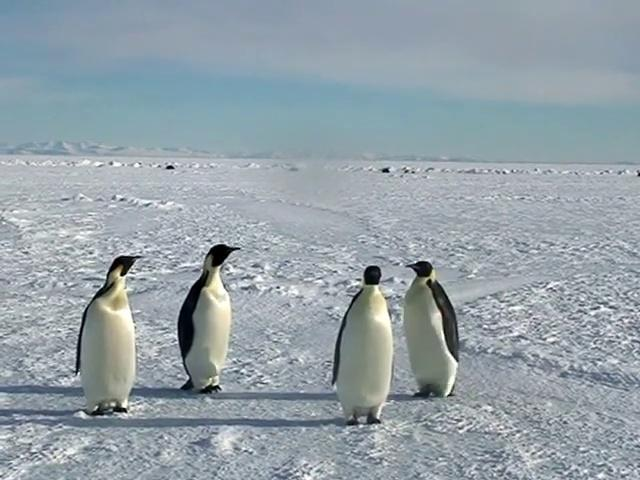animal: (334, 266, 394, 425)
